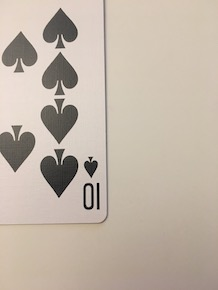TenOfSpades: (1, 1, 119, 228)
